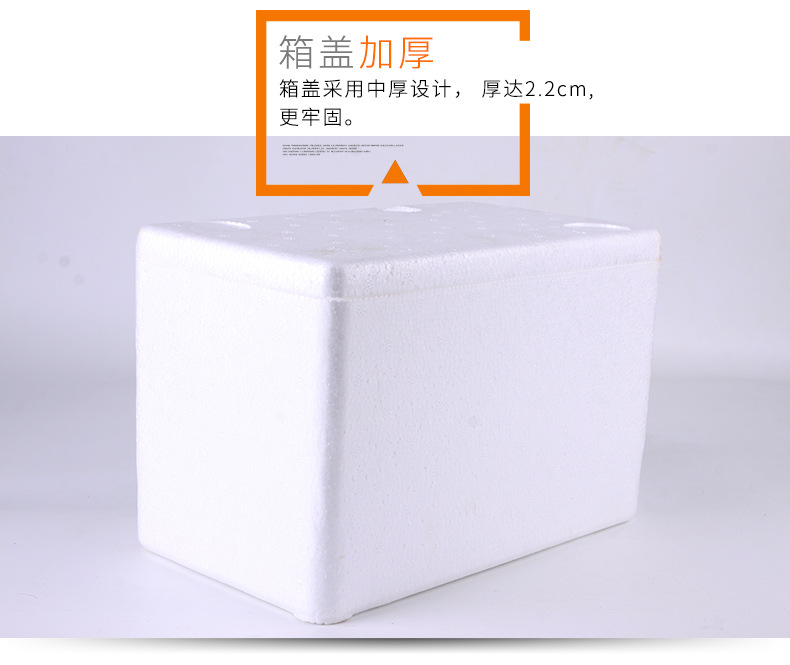泡沫箱: (136, 208, 659, 622)
